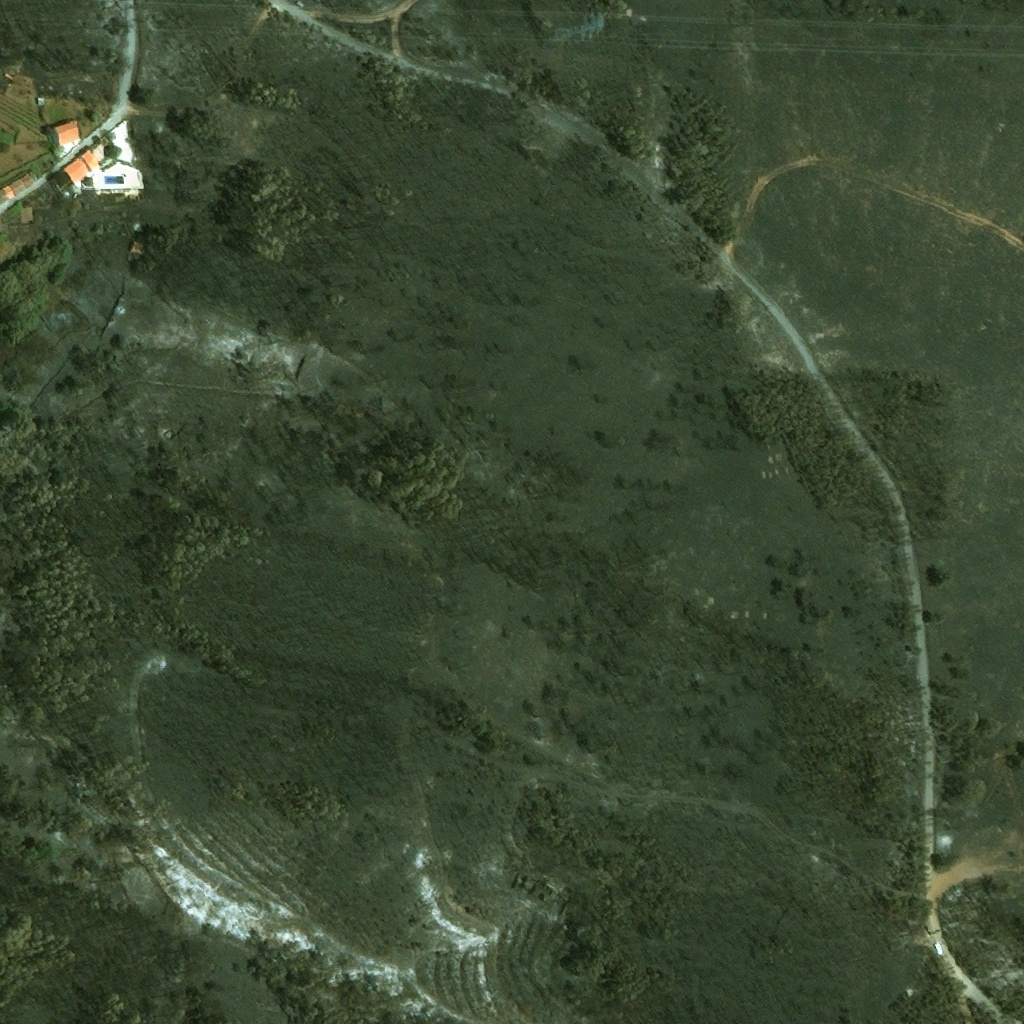0 no-damage: (0, 172, 34, 204), (62, 157, 91, 188), (54, 120, 80, 145), (81, 148, 100, 171), (20, 206, 33, 221), (37, 96, 46, 106), (4, 73, 13, 81)
4 un-classified: (295, 0, 305, 9)
